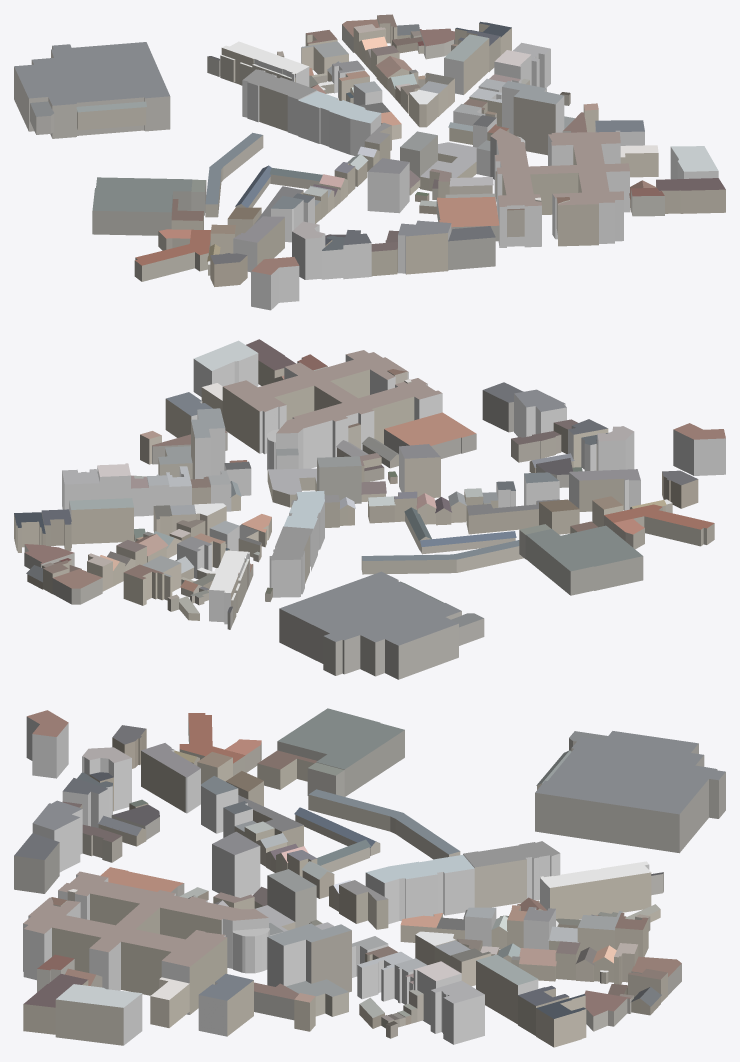
3 views of the same model, one above another, from view 1: azimuth 30°, elevation 25°; view 2: azimuth 150°, elevation 25°; view 3: azimuth 270°, elevation 25° (orthographic). The views are drawn at different scales.
Visible parts, largest first — view 1: tuile; view 2: tuile; view 3: tuile.
Boxes of the visible parts, x1=… form: tuile: x1=14, y1=14, x2=725, y2=310; tuile: x1=14, y1=339, x2=725, y2=679; tuile: x1=14, y1=708, x2=725, y2=1047.
Size of the model in its own units: 282 by 28.95 by 278.
